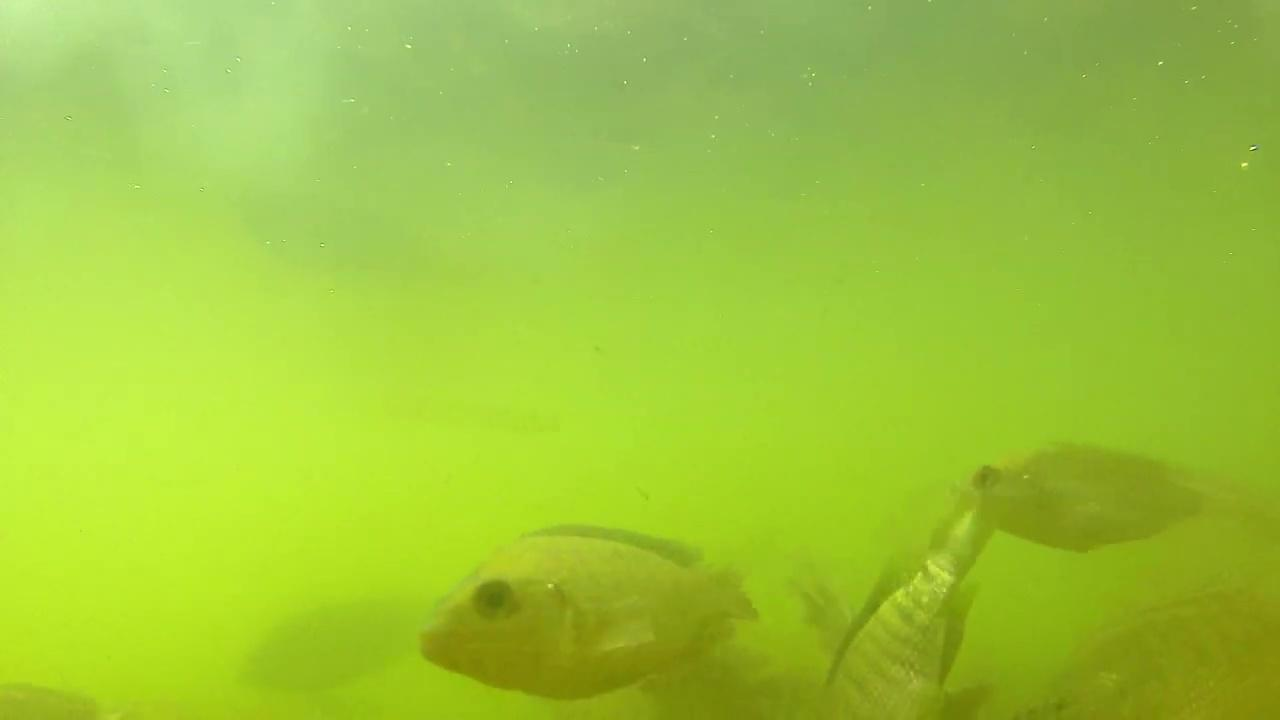Tilapia: (425, 514, 754, 694), (947, 438, 1210, 548)
